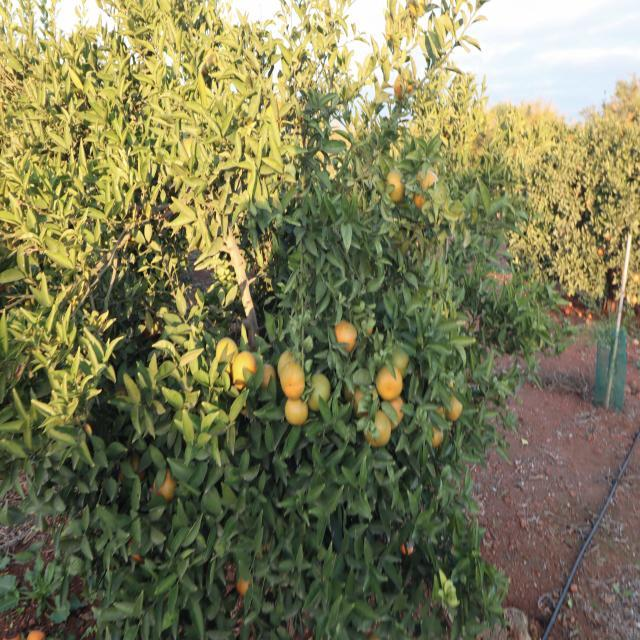Jeruk Belum Matang: (309, 372, 332, 413), (366, 412, 390, 448), (387, 170, 407, 202), (391, 352, 411, 375)
Jeruk Sudah Matang: (414, 170, 441, 209), (280, 362, 306, 399), (376, 366, 404, 400), (232, 352, 258, 384), (153, 470, 179, 500), (336, 321, 358, 352), (284, 398, 310, 423), (446, 384, 463, 422), (216, 337, 238, 365), (388, 398, 406, 427), (260, 361, 276, 390), (278, 352, 294, 378), (395, 75, 412, 99), (237, 576, 253, 596), (428, 427, 443, 446)
